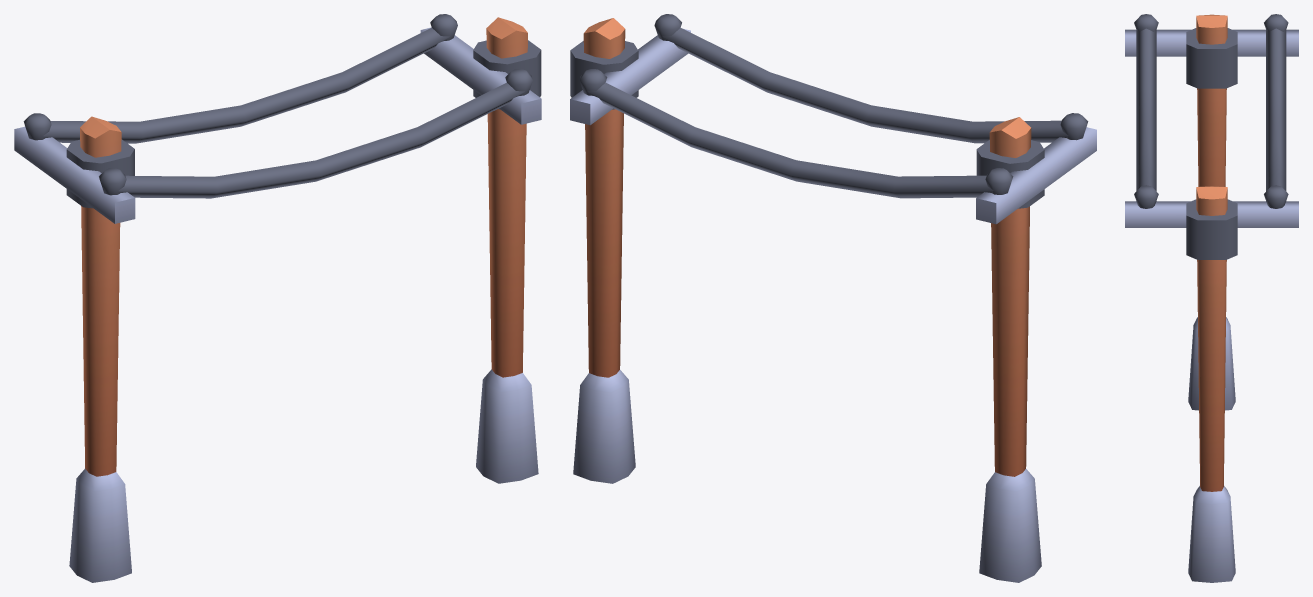
Rendered from k_r_electricity-pole.glb.
3 renders of one model, left to right at view 1: azimuth 30°, elevation 25°; view 2: azimuth 150°, elevation 25°; view 3: azimuth 270°, elevation 25°, orthographic. The views are drawn at different scales.
Visible parts, largest first — view 1: electricity-pole; view 2: electricity-pole; view 3: electricity-pole.
Boxes of the visible parts, box(x1,y1,x2,y2) form: electricity-pole: box(14, 14, 541, 582); electricity-pole: box(570, 14, 1096, 582); electricity-pole: box(1125, 14, 1298, 582).
Bounding box in the file's own units: 0.5791 × 0.525 × 0.2142.
1 material, 1 textured.
